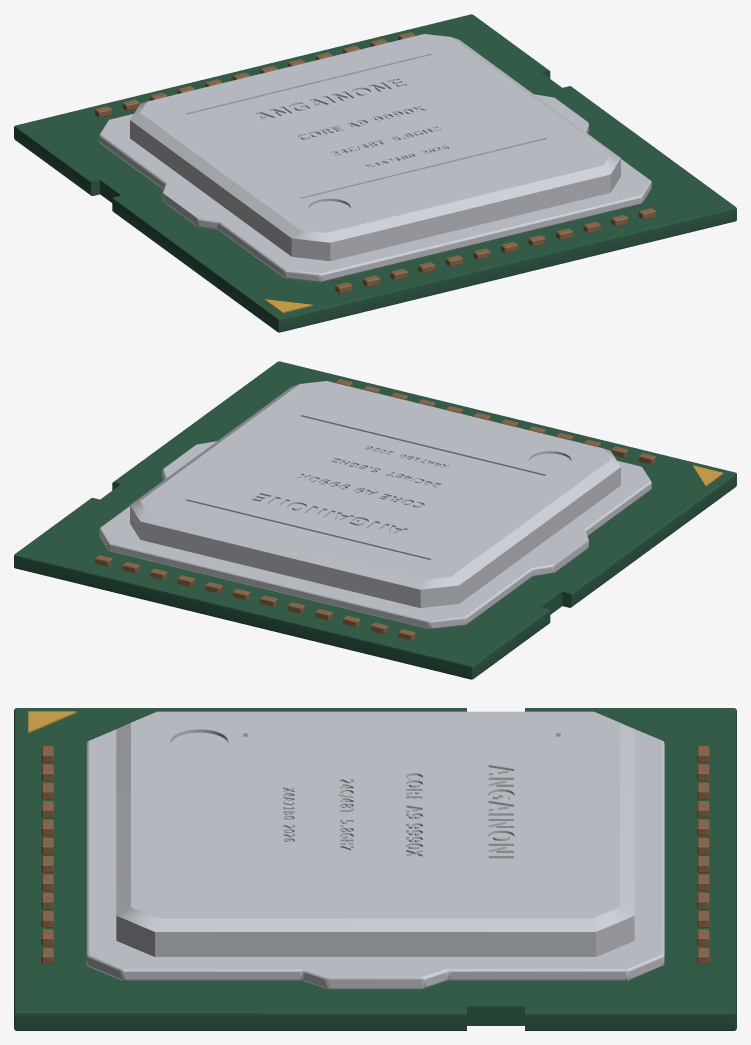
Rendered from CpuChip.glb.
3 renders of one model, top to bottom at view 1: azimuth 30°, elevation 25°; view 2: azimuth 150°, elevation 25°; view 3: azimuth 270°, elevation 25°, orthographic. The views are drawn at different scales.
Parts seen in each view (by area): view 1: Ihs__Metal__C9CDD4, Substrate__SmoothPlastic__2F5D46, Smd__SmoothPlastic__8C6B4A; view 2: Ihs__Metal__C9CDD4, Substrate__SmoothPlastic__2F5D46, Smd__SmoothPlastic__8C6B4A; view 3: Ihs__Metal__C9CDD4, Substrate__SmoothPlastic__2F5D46, Smd__SmoothPlastic__8C6B4A, Pads__Foil__D4A64A.
Part boxes in pixels (x1,y1,x2,y2): Ihs__Metal__C9CDD4: [99, 34, 651, 282]; Substrate__SmoothPlastic__2F5D46: [14, 14, 736, 332]; Smd__SmoothPlastic__8C6B4A: [95, 32, 655, 293]; Ihs__Metal__C9CDD4: [99, 381, 651, 629]; Substrate__SmoothPlastic__2F5D46: [14, 361, 736, 679]; Smd__SmoothPlastic__8C6B4A: [95, 379, 655, 640]; Ihs__Metal__C9CDD4: [86, 711, 664, 989]; Substrate__SmoothPlastic__2F5D46: [14, 708, 736, 1030]; Smd__SmoothPlastic__8C6B4A: [41, 746, 709, 964]; Pads__Foil__D4A64A: [28, 711, 76, 733].
Size of the model in its own units: 30 by 2.99 by 30.
